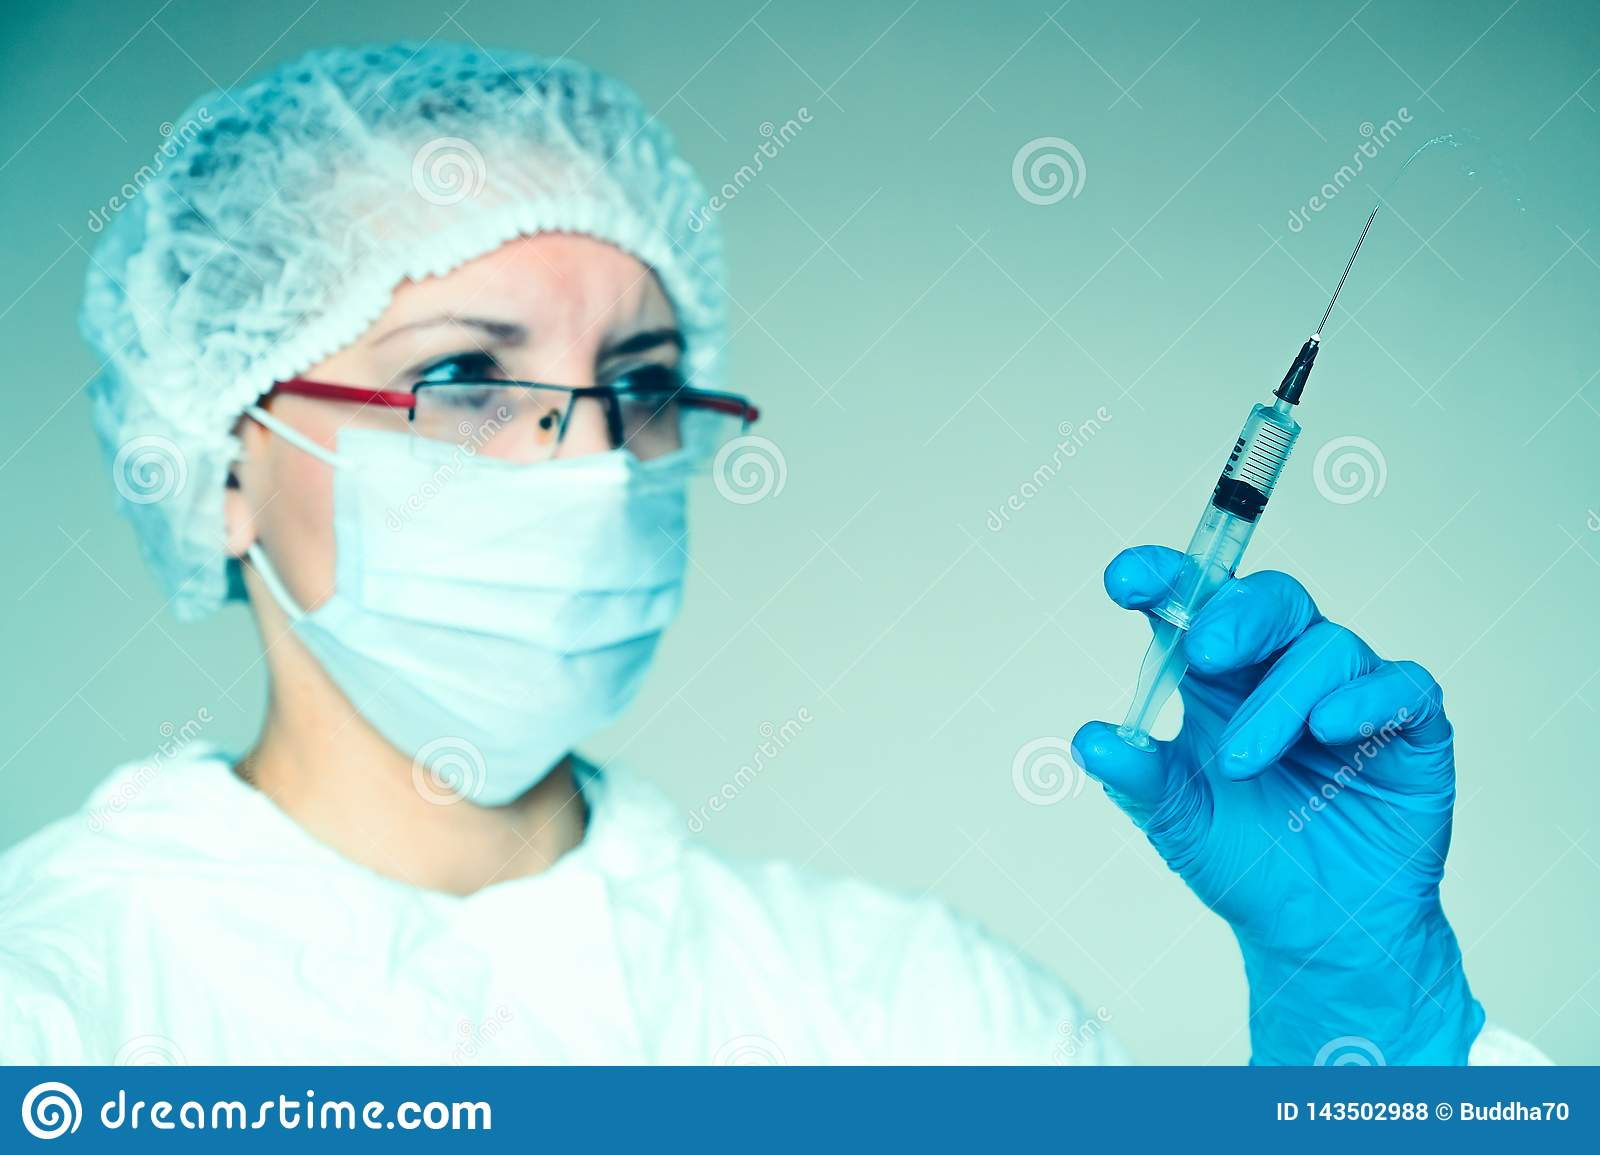mask: (275, 425, 696, 818)
